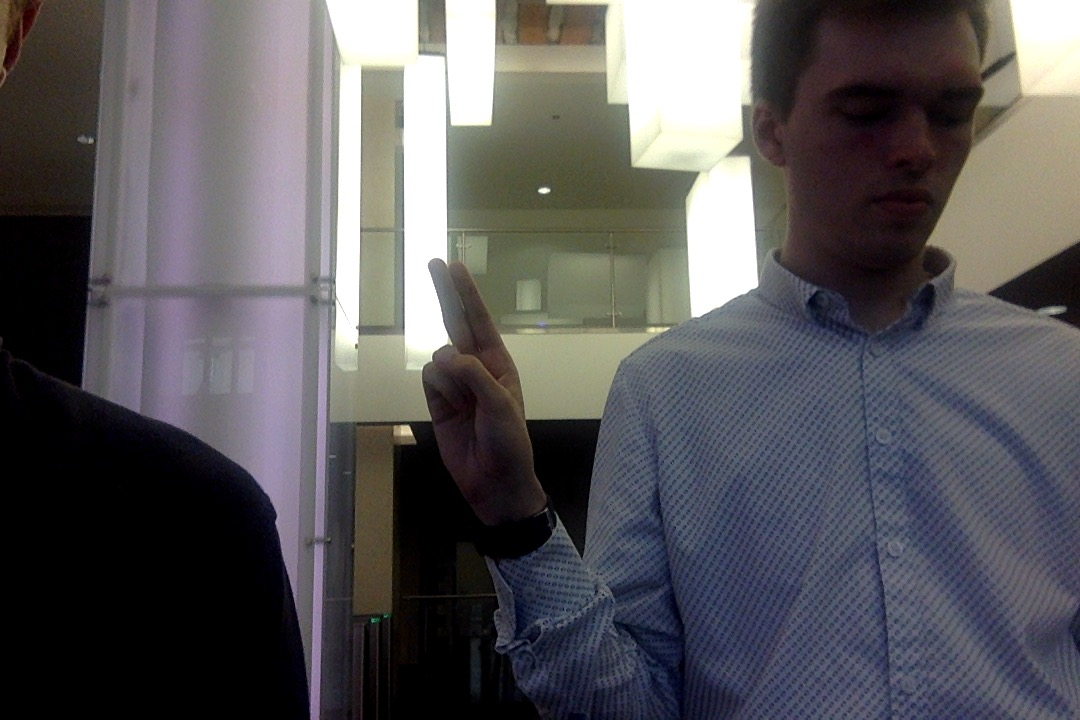u: (408, 253, 548, 499)
